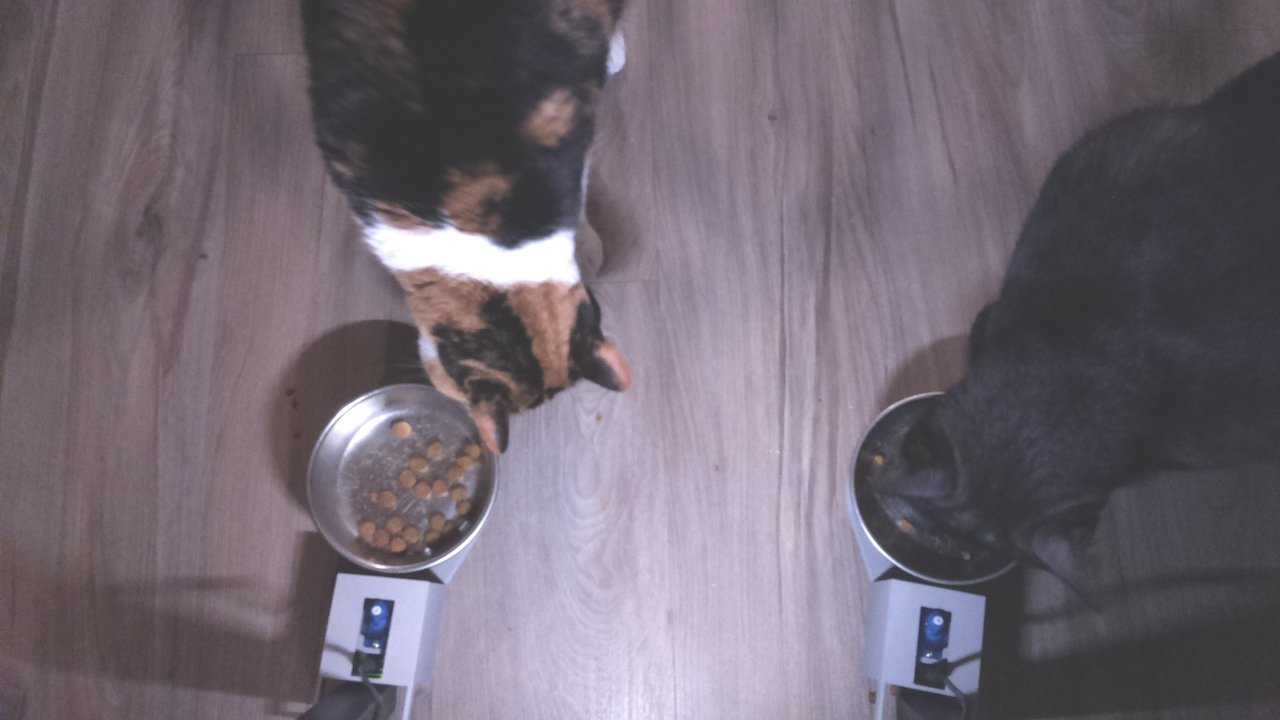bella: (408, 221, 648, 451)
open_bowl: (304, 378, 501, 575)
saki_eating: (841, 329, 1157, 623)
